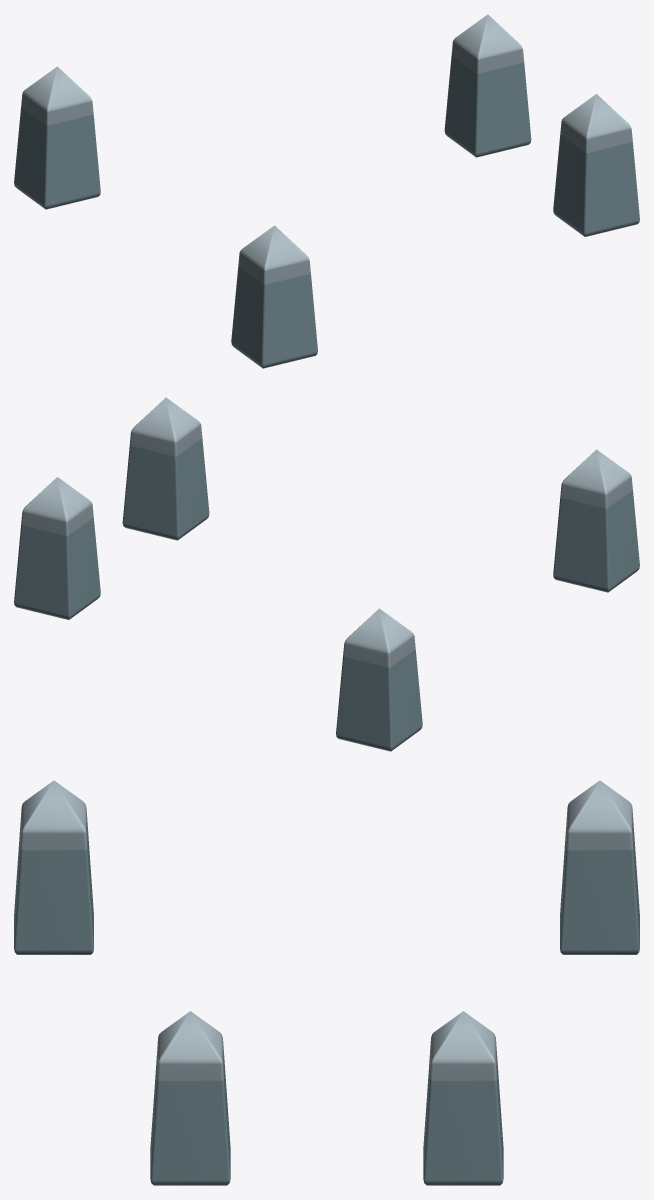
Rendered from Props.fbx.
3 views of the same model, one above another, from view 1: azimuth 30°, elevation 25°; view 2: azimuth 150°, elevation 25°; view 3: azimuth 270°, elevation 25° (orthographic). The views are drawn at different scales.
Visible parts, largest first — view 1: 棱锥 (×4); view 2: 棱锥 (×4); view 3: 棱锥 (×4).
Part boxes in pixels (x1,y1,x2,y2): 棱锥 (×4): (14, 14, 639, 368); 棱锥 (×4): (14, 397, 639, 751); 棱锥 (×4): (14, 780, 639, 1185).
Size of the model in its own units: 22.99 by 6.42 by 22.93.
